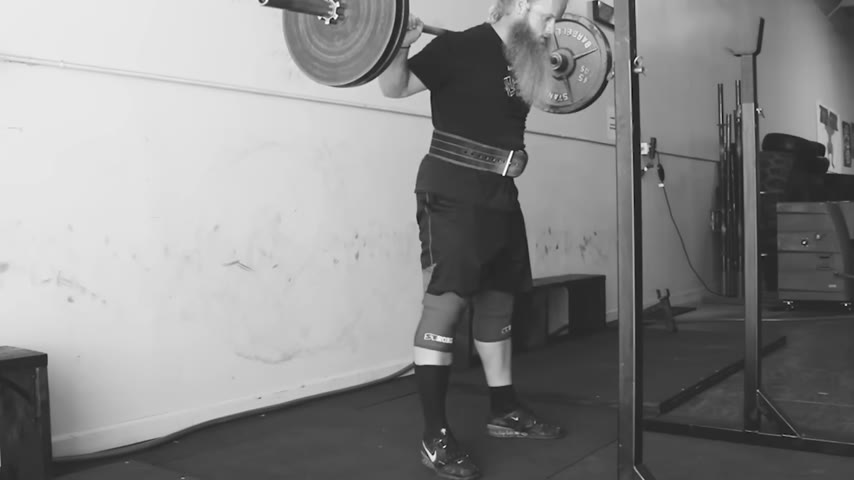barbell_plate_side: (530, 4, 623, 172)
